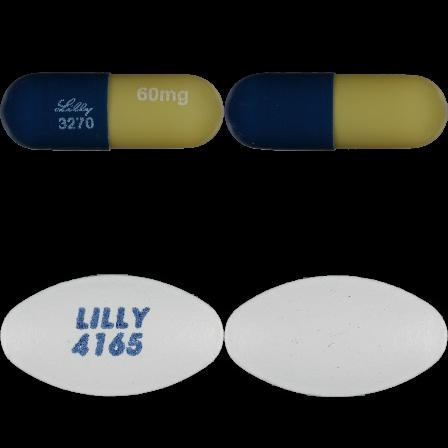0002-3270: (0, 0, 224, 224)
